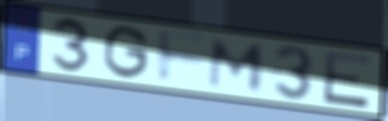3: (266, 44, 320, 102), (48, 16, 94, 75)
E: (320, 49, 375, 110)
F: (155, 27, 211, 86)
G: (100, 24, 152, 81)
M: (206, 36, 269, 94)
